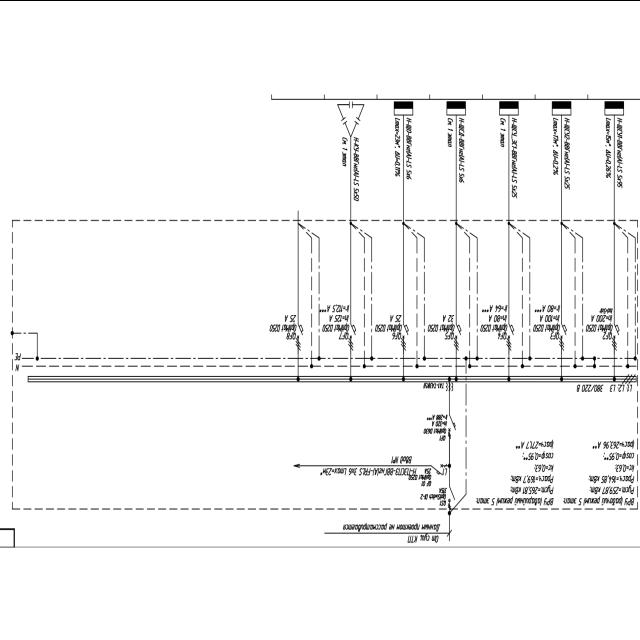-: (475, 495, 555, 507), (563, 494, 635, 506), (320, 303, 350, 331), (478, 303, 508, 331), (532, 304, 560, 332), (585, 306, 614, 332), (373, 311, 402, 331), (268, 311, 297, 331), (422, 411, 448, 433), (426, 313, 455, 332), (420, 485, 448, 499), (408, 466, 432, 481), (422, 381, 444, 388)
QF: (452, 322, 462, 350), (611, 321, 621, 349), (558, 322, 568, 350), (505, 322, 515, 349), (294, 322, 304, 349), (400, 321, 409, 350), (347, 322, 356, 350), (448, 413, 457, 438), (431, 463, 443, 475)
QS: (448, 485, 456, 509)
TT: (446, 381, 454, 391)
